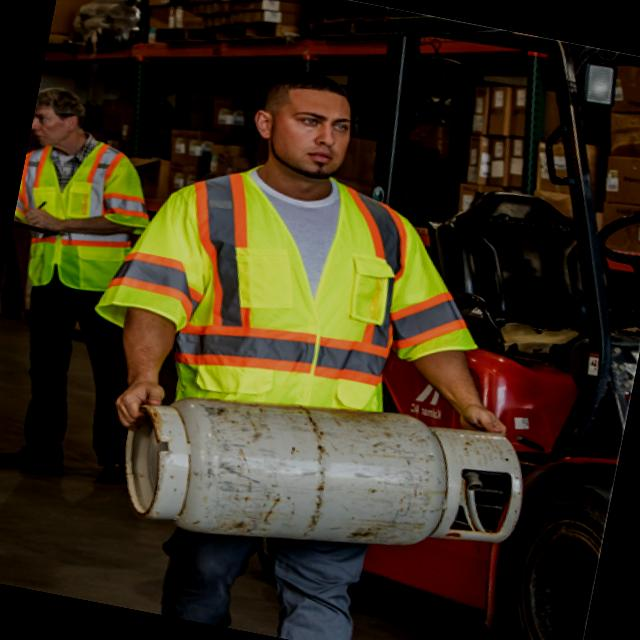no-goggles: (262, 102, 364, 140)
no-helmet: (258, 58, 378, 118), (32, 75, 104, 132)
vest: (124, 142, 432, 428), (3, 127, 158, 304)
